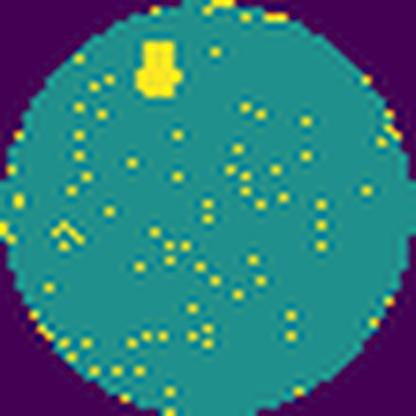Loc: (134, 39, 186, 96)
